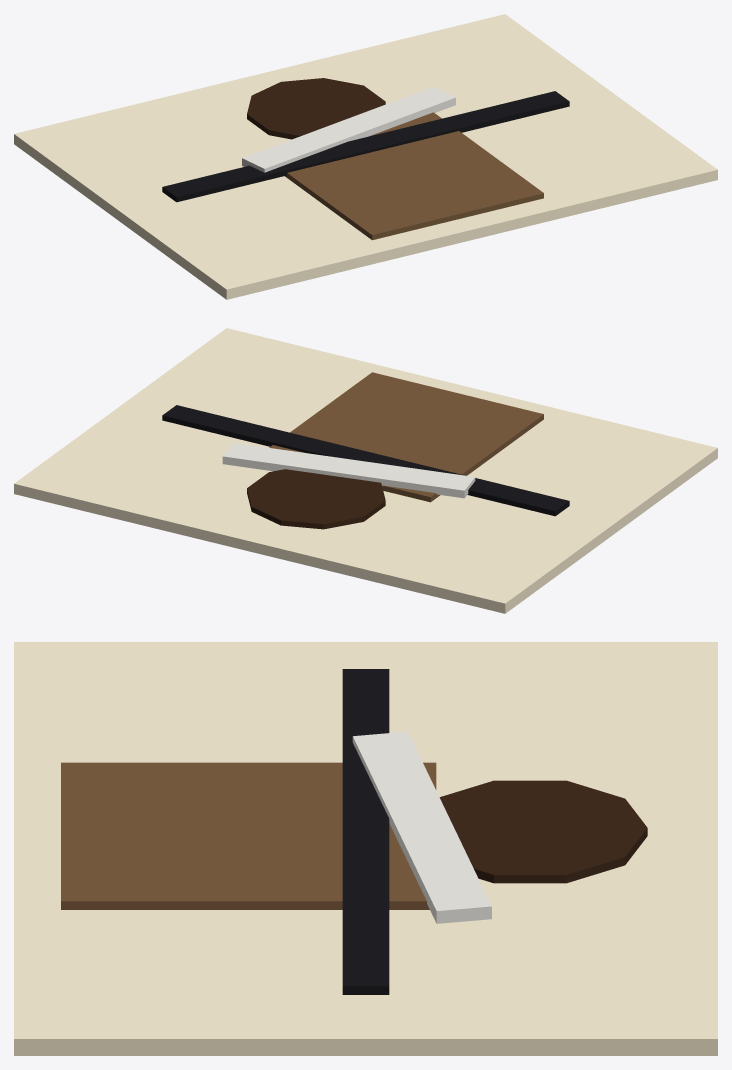
File: gym_record_photo.glb
3 views of the same model, one above another, from view 1: azimuth 30°, elevation 25°; view 2: azimuth 150°, elevation 25°; view 3: azimuth 270°, elevation 25° (orthographic). The views are drawn at different scales.
Parts seen in each view (by area): view 1: paper_photo_paper, print_photo_strongman, print_black, print_fito_hair, tape_white; view 2: paper_photo_paper, print_photo_strongman, print_fito_hair, print_black, tape_white; view 3: paper_photo_paper, print_photo_strongman, print_fito_hair, print_black, tape_white.
Boxes of the visible parts, bbox=[...] form: paper_photo_paper: bbox=[14, 14, 717, 299]; print_photo_strongman: bbox=[285, 112, 543, 240]; print_black: bbox=[162, 91, 569, 202]; print_fito_hair: bbox=[247, 78, 385, 139]; tape_white: bbox=[242, 86, 455, 172]; paper_photo_paper: bbox=[14, 328, 717, 613]; print_photo_strongman: bbox=[269, 372, 543, 502]; print_fito_hair: bbox=[247, 469, 385, 529]; print_black: bbox=[162, 405, 569, 516]; tape_white: bbox=[222, 443, 475, 498]; paper_photo_paper: bbox=[14, 642, 717, 1055]; print_photo_strongman: bbox=[61, 762, 436, 909]; print_fito_hair: bbox=[439, 780, 647, 883]; print_black: bbox=[342, 669, 389, 994]; tape_white: bbox=[352, 731, 491, 923].
Size of the model in its own units: 0.2 by 0.0085 by 0.15.
